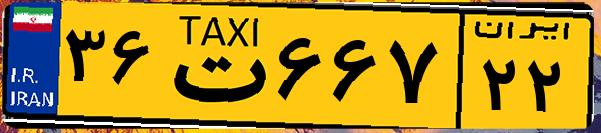2: (475, 38, 525, 113), (525, 38, 570, 115)
3: (57, 26, 110, 100)
6: (270, 28, 330, 110), (330, 28, 385, 110), (110, 28, 158, 98)
7: (385, 28, 445, 110)
ت: (158, 12, 270, 120)
